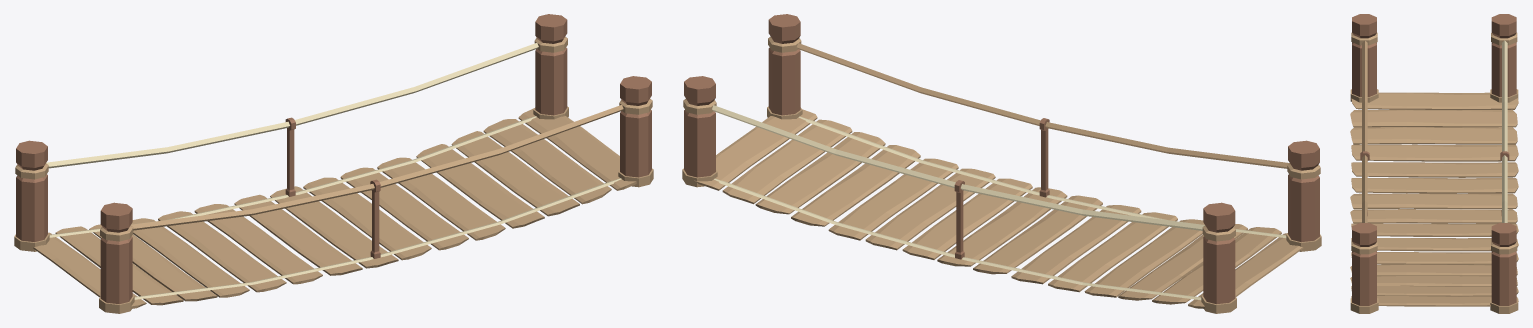
File: TSC_Bridge.fbx
The picture shows the model from 3 angles, left to right: view 1: azimuth 30°, elevation 25°; view 2: azimuth 150°, elevation 25°; view 3: azimuth 270°, elevation 25°; orthographic projection. The views are drawn at different scales.
Parts seen in each view (by area): view 1: Bridge; view 2: Bridge; view 3: Bridge.
Part boxes in pixels (x1,y1,x2,y2): Bridge: (14, 14, 653, 313); Bridge: (682, 14, 1321, 313); Bridge: (1350, 14, 1518, 313).
Bounding box in the file's own units: 613 × 123 × 198.
